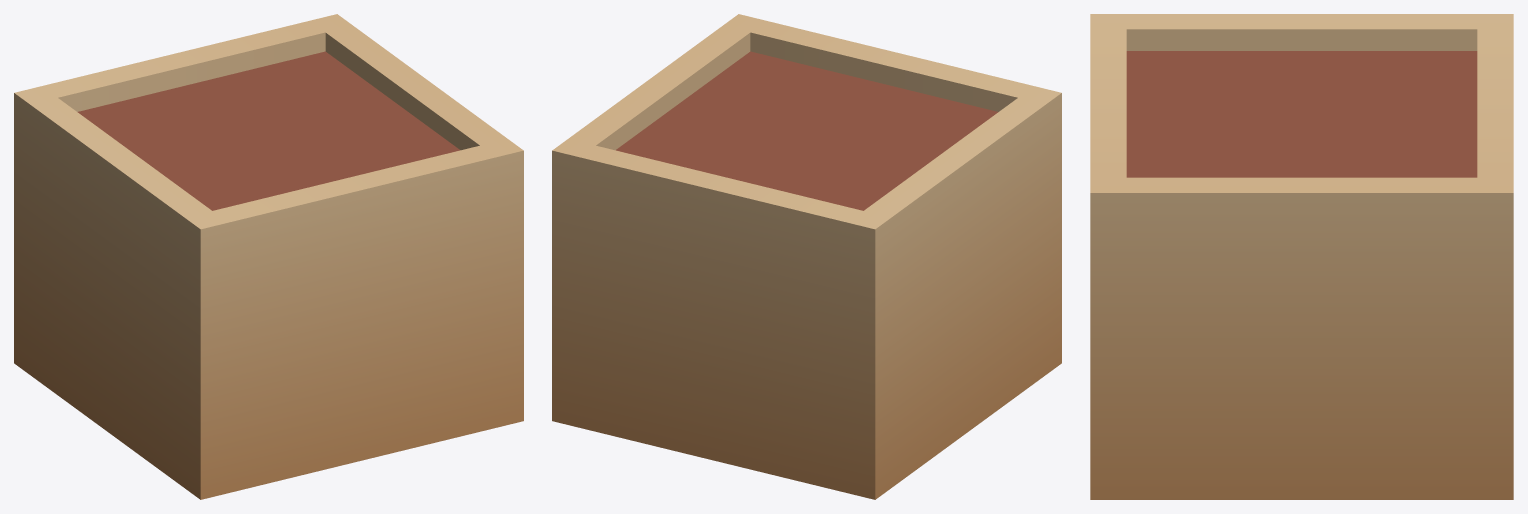
Rendered from MediumHouse01.fbx.
3 renders of one model, left to right at view 1: azimuth 30°, elevation 25°; view 2: azimuth 150°, elevation 25°; view 3: azimuth 270°, elevation 25°, orthographic. The views are drawn at different scales.
Parts seen in each view (by area): view 1: MediumHouse01; view 2: MediumHouse01; view 3: MediumHouse01.
Boxes of the visible parts, x1,y1,x2,y2 form: MediumHouse01: (14,14,523,499); MediumHouse01: (552,14,1061,499); MediumHouse01: (1090,14,1513,499).
Bounding box in the file's own units: 2 × 1.6 × 2.
1 material, 1 textured.
